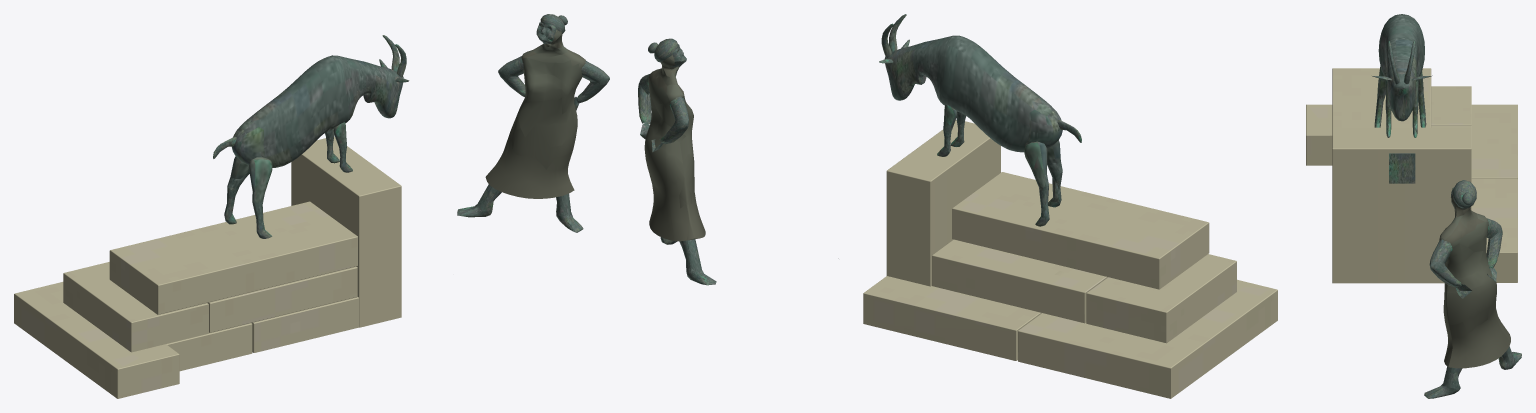
The model's file is Skulptur_Animation.glb.
3 views of the same model, side by side, from view 1: azimuth 30°, elevation 25°; view 2: azimuth 150°, elevation 25°; view 3: azimuth 270°, elevation 25° (orthographic). The views are drawn at different scales.
Visible parts, largest first — view 1: Stein, Bronze; view 2: Stein, Bronze; view 3: Stein, Bronze.
Part boxes in pixels (x1=…): Stein: x1=14, y1=137, x2=401, y2=398; Bronze: x1=213, y1=14, x2=609, y2=238; Stein: x1=863, y1=120, x2=1277, y2=398; Bronze: x1=638, y1=14, x2=1081, y2=285; Stein: x1=1306, y1=68, x2=1517, y2=283; Bronze: x1=1372, y1=14, x2=1521, y2=398.
Size of the model in its own units: 386 by 167 by 127.
2 materials, 2 textured.
